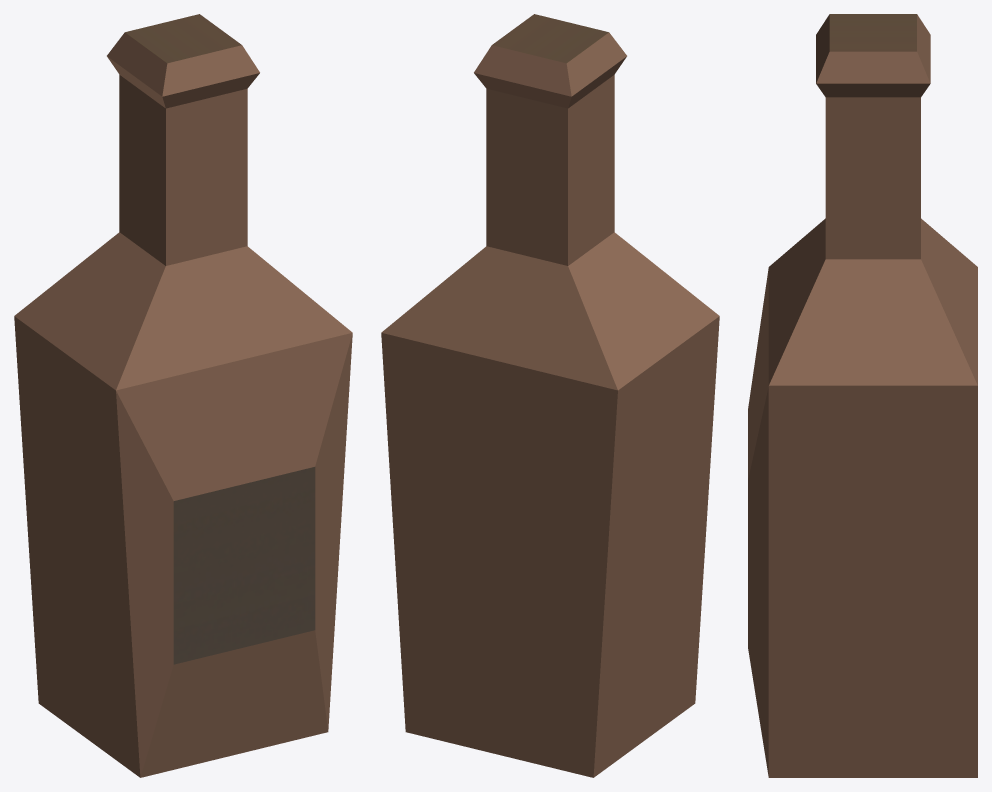
The model's file is Bottle_4.fbx.
3 views of the same model, side by side, from view 1: azimuth 30°, elevation 25°; view 2: azimuth 150°, elevation 25°; view 3: azimuth 270°, elevation 25° (orthographic). The views are drawn at different scales.
Visible parts, largest first — view 1: pCube431; view 2: pCube431; view 3: pCube431.
Part boxes in pixels (left/top/right/bottom): pCube431: left=14, top=14, right=352, bottom=777; pCube431: left=381, top=14, right=719, bottom=777; pCube431: left=748, top=14, right=977, bottom=777.
Size of the model in its own units: 13.61 by 37.3 by 11.13.
